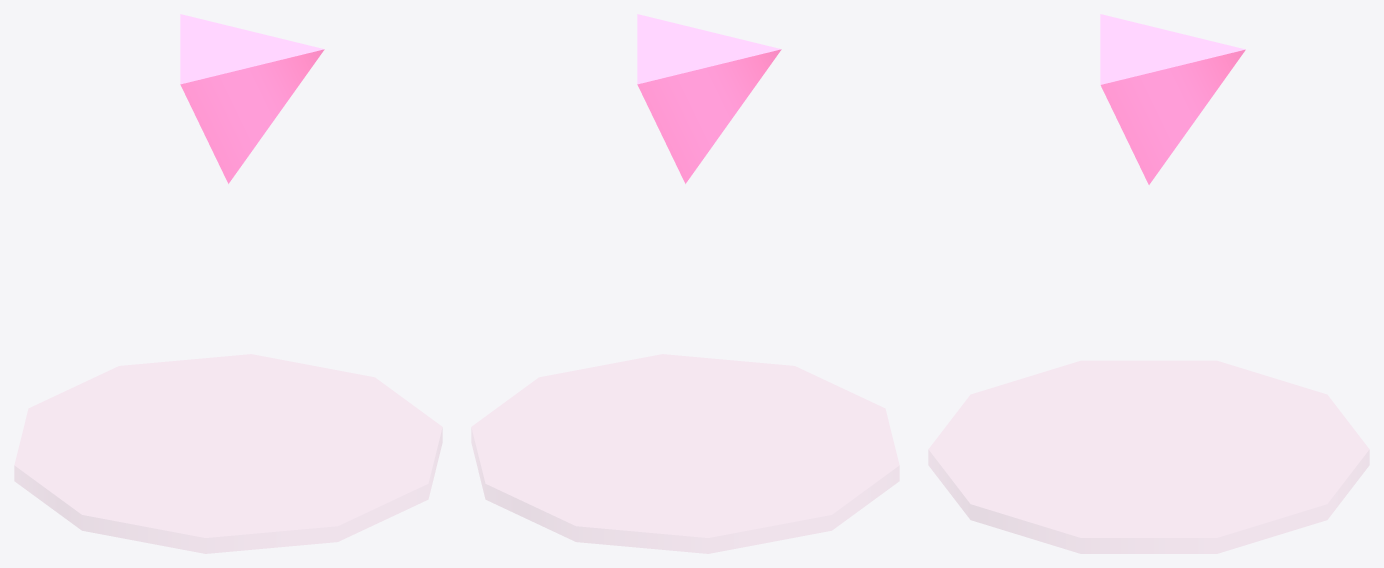
The model's file is pena.glb.
3 views of the same model, side by side, from view 1: azimuth 30°, elevation 25°; view 2: azimuth 150°, elevation 25°; view 3: azimuth 270°, elevation 25° (orthographic).
Bounding box in the file's own units: 0.9511 × 1.04 × 1.
